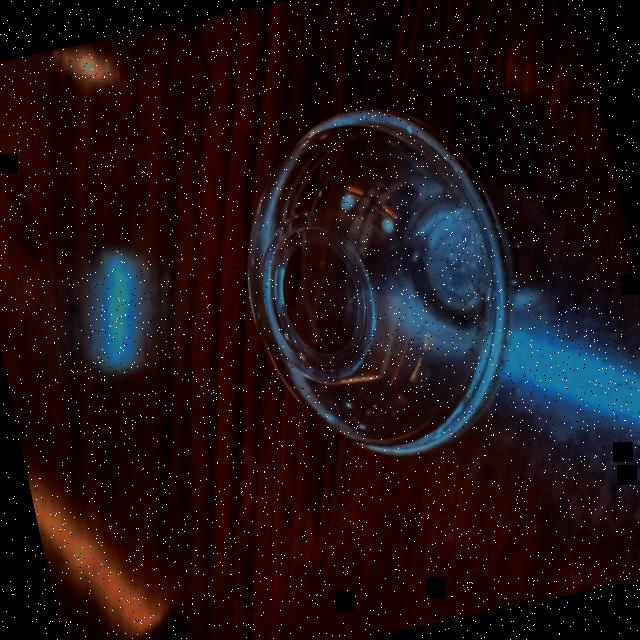plastic_cup_lid: (209, 65, 555, 485)
